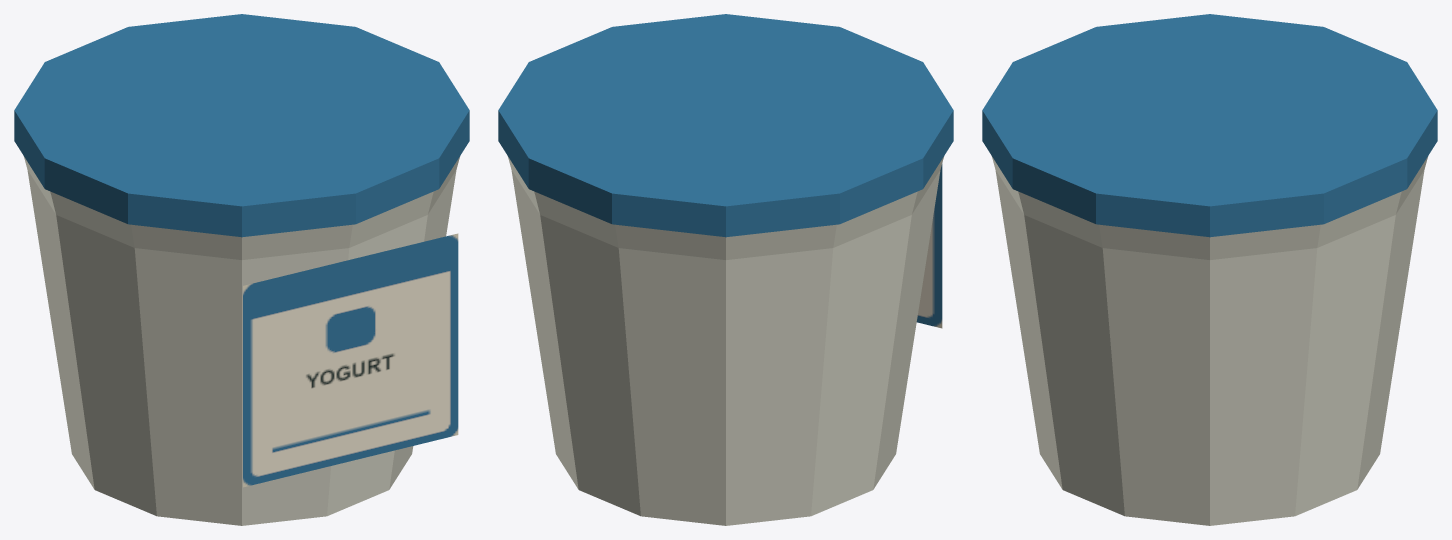
File: yogurt.fbx
3 renders of one model, left to right at view 1: azimuth 30°, elevation 25°; view 2: azimuth 150°, elevation 25°; view 3: azimuth 270°, elevation 25°, orthographic.
Visible parts, largest first — view 1: yogurt; view 2: yogurt; view 3: yogurt.
Boxes of the visible parts, bbox=[...] form: yogurt: bbox=[14, 14, 469, 525]; yogurt: bbox=[498, 14, 953, 525]; yogurt: bbox=[982, 14, 1437, 525].
Bounding box in the file's own units: 17.4 × 14.5 × 17.4.
